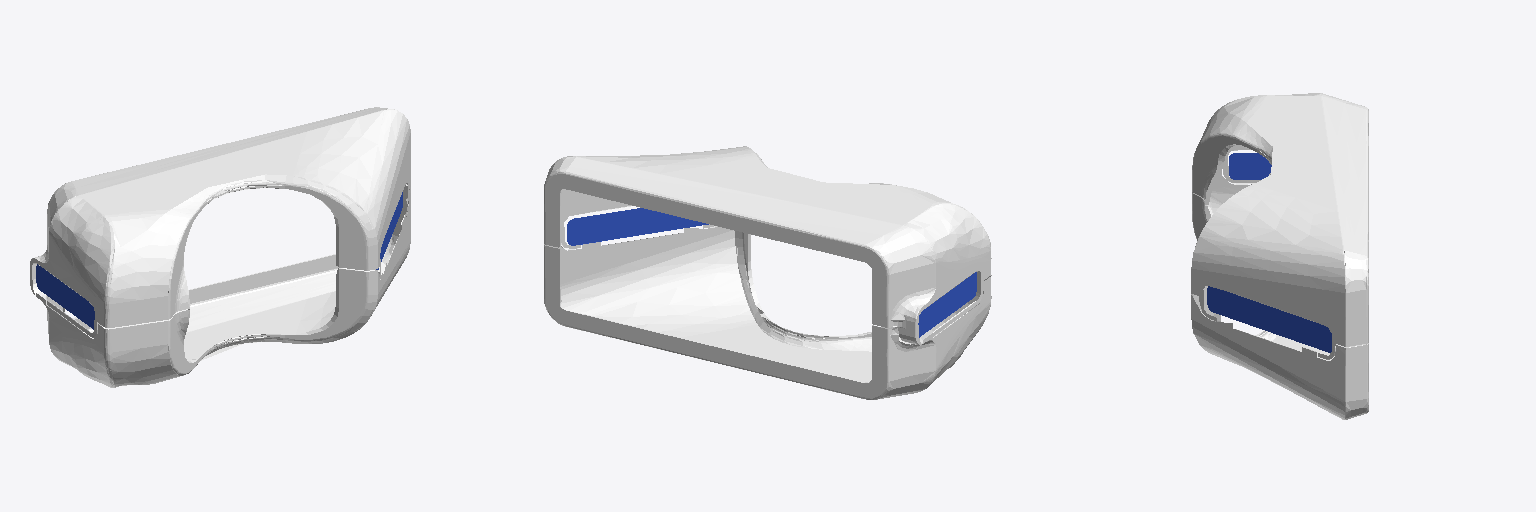
Rendered from sim_ecub_1-1_r_ankle_2.obj.
3 views of the same model, side by side, from view 1: azimuth 30°, elevation 25°; view 2: azimuth 150°, elevation 25°; view 3: azimuth 270°, elevation 25° (orthographic).
Size of the model in its own units: 259 by 111 by 106.